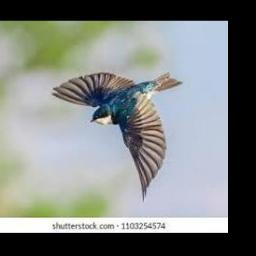Swallow: (51, 70, 183, 202)
